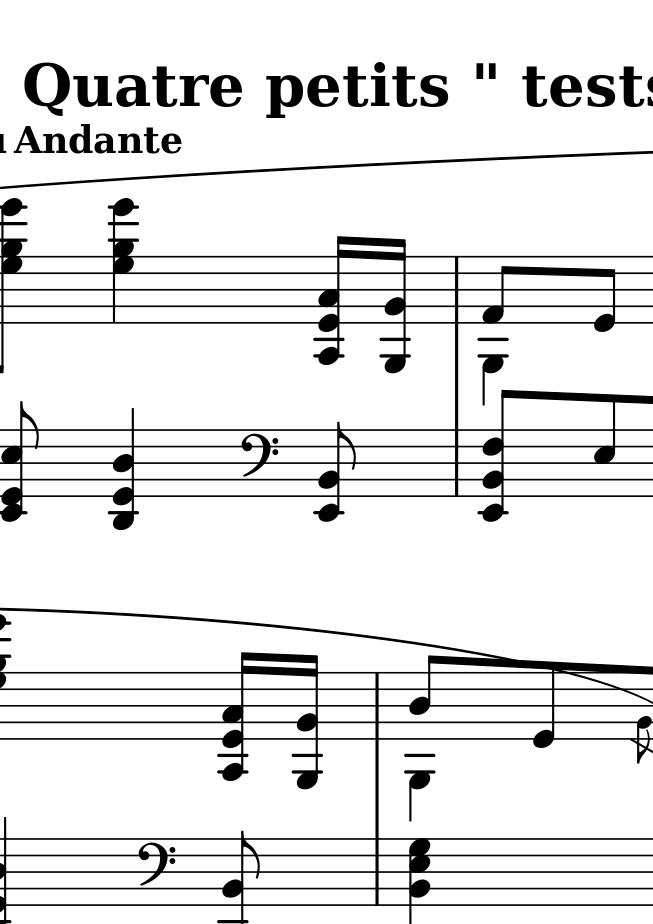16_-5_2: (292, 654, 326, 790)
16_th: (313, 230, 355, 369), (218, 651, 262, 781)
4_th: (106, 197, 138, 325), (109, 411, 140, 536), (406, 836, 434, 924)
8_-2_2: (312, 423, 357, 523)
8_0: (530, 660, 558, 753), (592, 254, 617, 334)
8_1: (480, 254, 514, 327)
8_4: (407, 654, 440, 741)
8_5: (592, 392, 619, 500)
8_th: (480, 389, 521, 523), (1, 400, 40, 525)
Fclef: (135, 837, 176, 908), (238, 428, 279, 498)
Single_barline: (448, 257, 465, 323), (369, 837, 385, 905), (370, 674, 385, 739), (449, 431, 464, 495)
